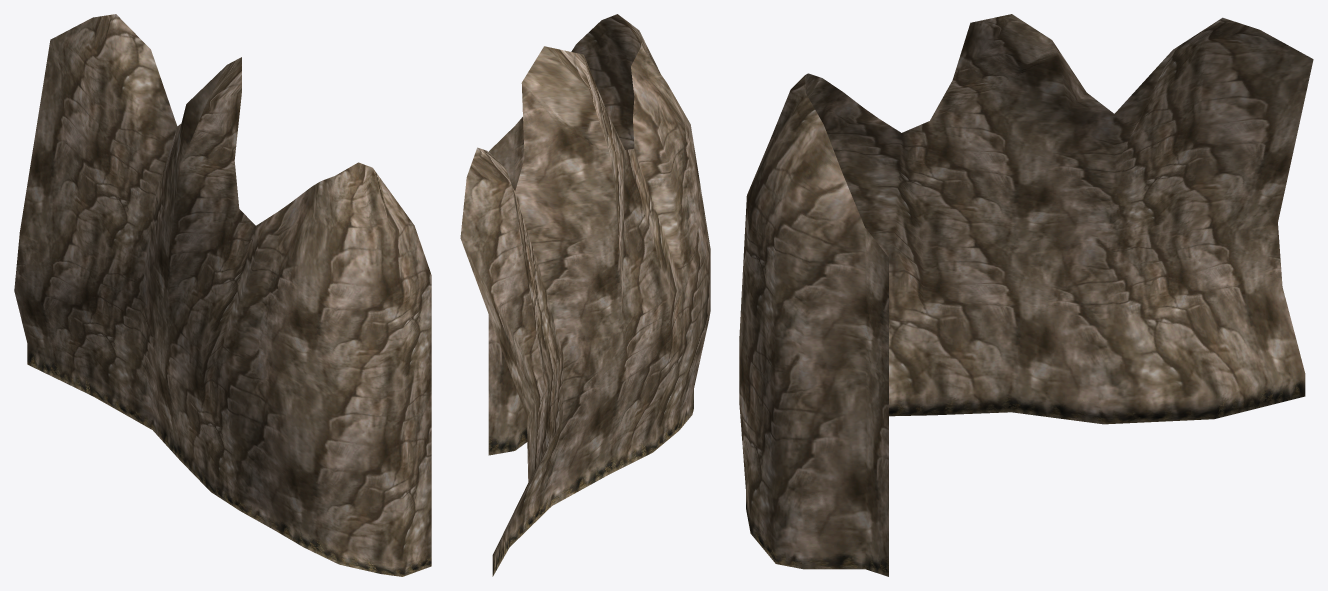
Rendered from OVERHILL_A_01_OH_HACK_93937.fbx.
3 views of the same model, side by side, from view 1: azimuth 30°, elevation 25°; view 2: azimuth 150°, elevation 25°; view 3: azimuth 270°, elevation 25° (orthographic). The views are drawn at different scales.
Parts seen in each view (by area): view 1: OVERHILL_A_01_OH_HACK_93937; view 2: OVERHILL_A_01_OH_HACK_93937; view 3: OVERHILL_A_01_OH_HACK_93937.
Part boxes in pixels (x1,y1,x2,y2): OVERHILL_A_01_OH_HACK_93937: (14, 14, 431, 576); OVERHILL_A_01_OH_HACK_93937: (460, 14, 710, 576); OVERHILL_A_01_OH_HACK_93937: (739, 14, 1313, 576).
Size of the model in its own units: 57870 by 116933 by 120626.
2 materials, 2 textured.
